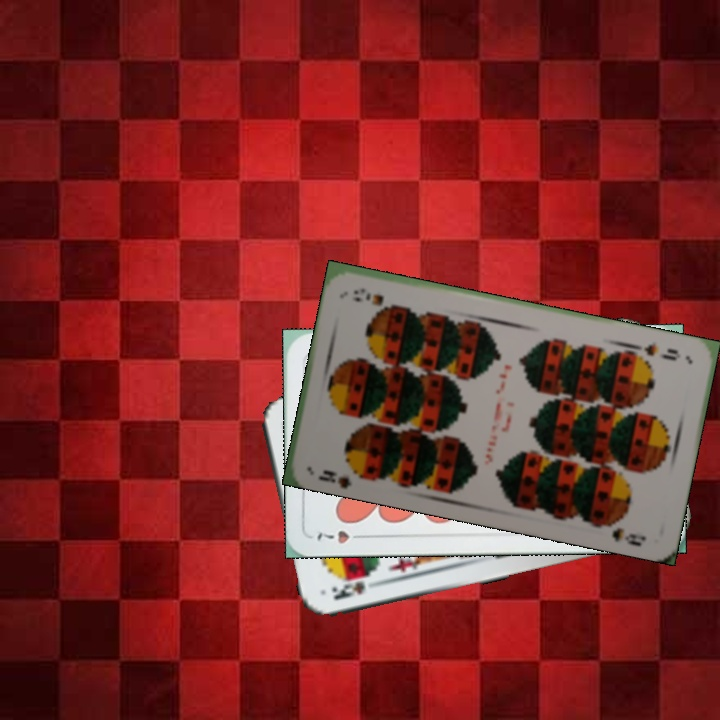H7: (313, 527, 369, 547)
S9: (632, 337, 684, 364), (314, 464, 369, 489)
SK: (328, 577, 368, 603)
